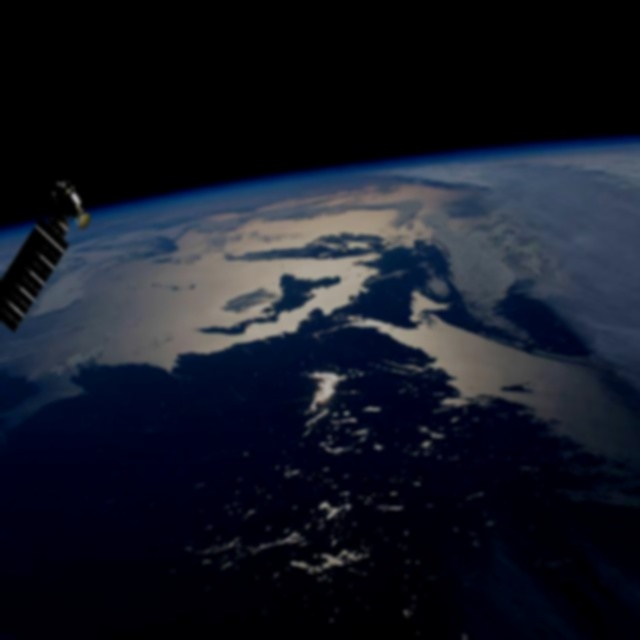medium_debris: (0, 93, 132, 331)
